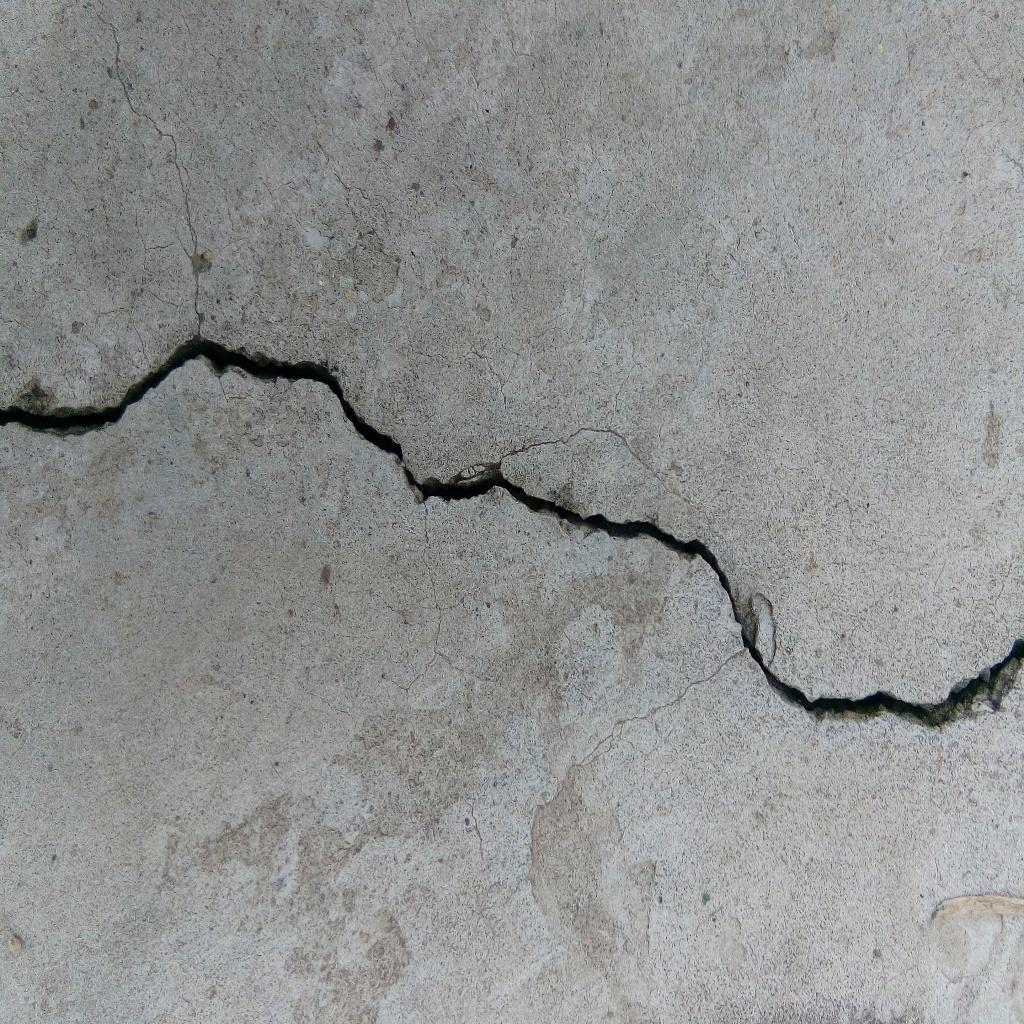Crack: (1, 335, 1024, 729), (95, 11, 204, 335), (579, 650, 747, 765), (500, 426, 661, 495)
